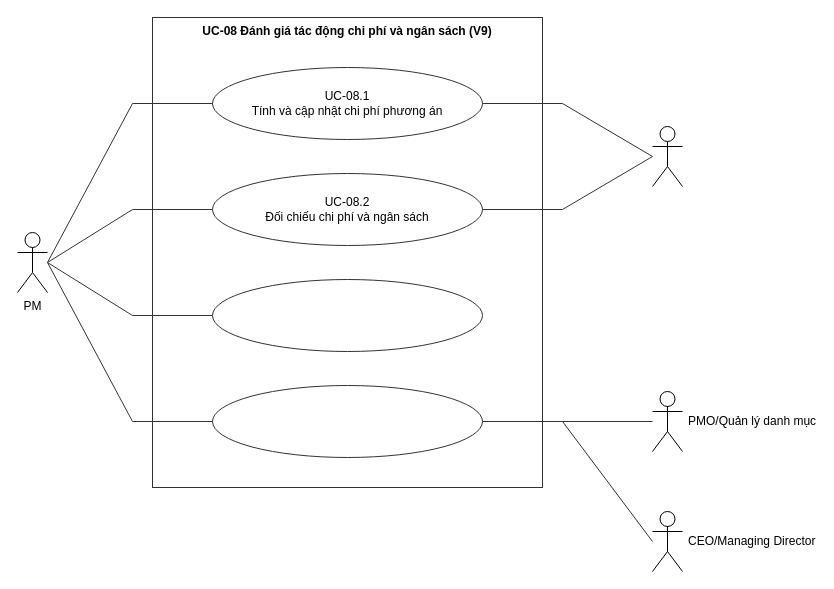
This 834x589 diagram has some shape labels left out. Each missing label, with the box of its shape:
Tài chính: (652, 126, 682, 186)
UC-08.3 So sánh đánh đổi giữa các phương án: (212, 278, 482, 352)
UC-08.4 Xác định hướng xử lý và chuyển cấp ngân sách: (212, 384, 482, 458)
